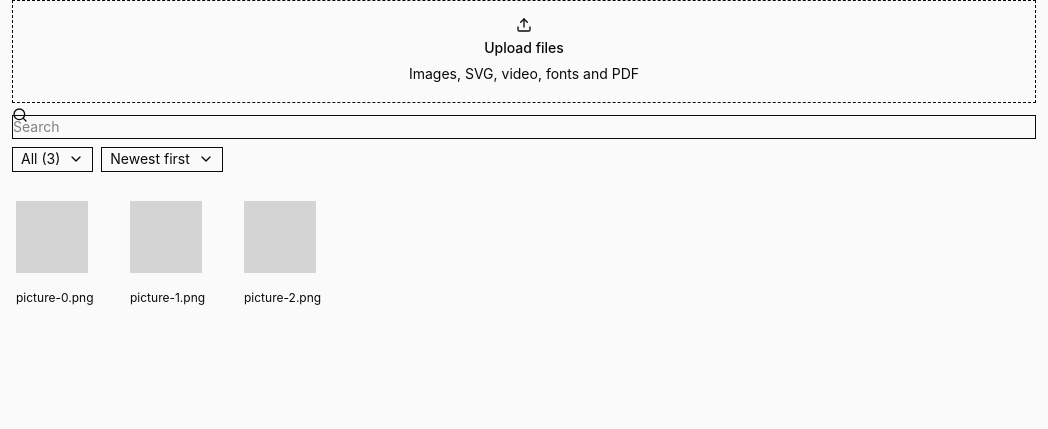
Test: the asset somebody chose › shows its shape, its size and its type
expect the table named "Assets" is shown: met, box [12,184,346,310]
Click the button "picture-1.png" at {"x": 179, "y": 247}, box [126,184,232,310]
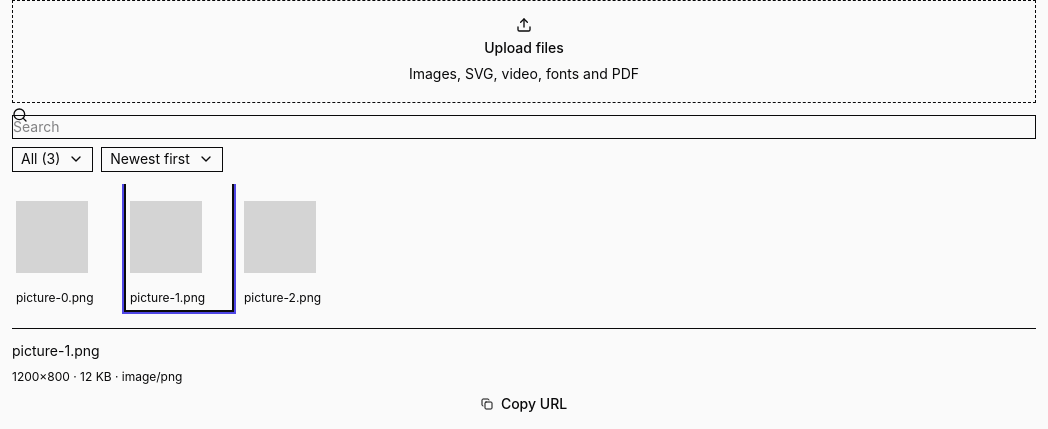
expect the text "1200×800 · 12 KB · image/png" is shown: met, box [12,369,182,384]
